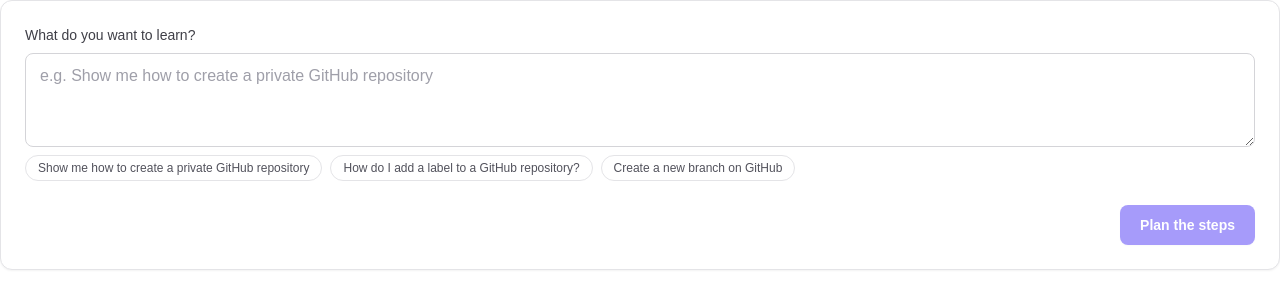
Test: TaskInput › has submit button disabled when prompt is empty
This screenshot has width=1280, height=289.
Expected: the button with test id "submit-task-btn" is disabled, [1120, 205, 1255, 245]
Type "Create a GitHub repository" into the text box with test id "task-prompt-input" at (640, 100), box [25, 53, 1255, 147]
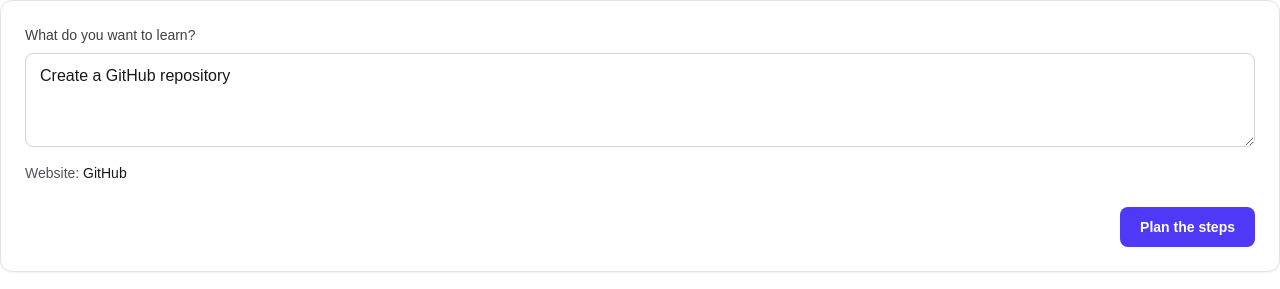
Expected: the button with test id "submit-task-btn" is enabled, [1120, 207, 1255, 247]
